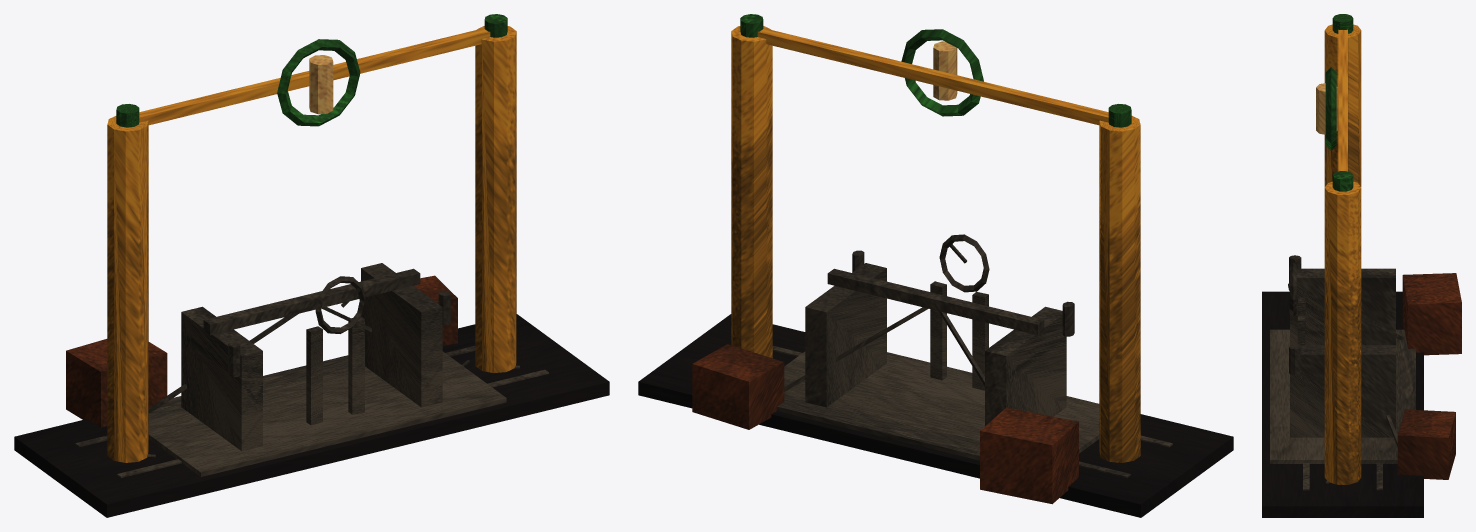
File: south-seed-caravan-gate.glb
3 renders of one model, left to right at view 1: azimuth 30°, elevation 25°; view 2: azimuth 150°, elevation 25°; view 3: azimuth 270°, elevation 25°, orthographic. The views are drawn at different scales.
Visible parts, largest first — view 1: south-seed-caravan-gate; view 2: south-seed-caravan-gate; view 3: south-seed-caravan-gate.
Part boxes in pixels (left/top/right/bottom): south-seed-caravan-gate: left=14, top=14, right=609, bottom=517; south-seed-caravan-gate: left=638, top=14, right=1233, bottom=517; south-seed-caravan-gate: left=1262, top=14, right=1461, bottom=517.
Bounding box in the file's own units: 9.4 × 6.94 × 3.7.
Materials: 1 (1 with a texture image).
